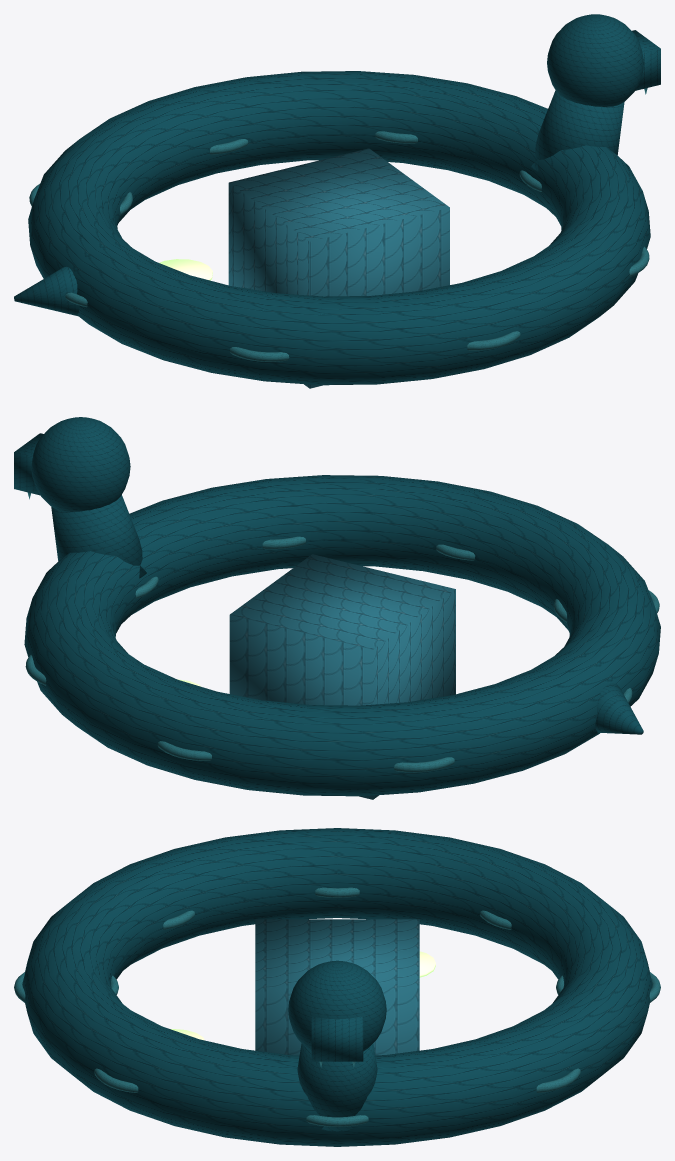
Rendered from jormungandr.glb.
The picture shows the model from 3 angles, top to bottom: view 1: azimuth 30°, elevation 25°; view 2: azimuth 150°, elevation 25°; view 3: azimuth 270°, elevation 25°; orthographic projection. The views are drawn at different scales.
Visible parts, largest first — view 1: RingBody, Cube, Head, Neck, Tail, Snout, VenomPool1, Band5; view 2: RingBody, Cube, Head, Neck, Tail, Snout, Band3, Band2; view 3: RingBody, Cube, Head, Neck, Snout, Band0, Band1, Band7.
Boxes of the visible parts, x1,y1,x2,y2 form: RingBody: [28, 71, 650, 385]; Cube: [228, 148, 449, 388]; Head: [547, 14, 643, 106]; Neck: [531, 90, 624, 171]; Tail: [14, 266, 79, 316]; Snout: [632, 30, 660, 90]; VenomPool1: [159, 259, 212, 280]; Band5: [230, 347, 289, 361]; RingBody: [24, 475, 660, 796]; Cube: [229, 554, 455, 799]; Head: [31, 417, 130, 511]; Neck: [51, 495, 146, 578]; Tail: [595, 683, 643, 734]; Snout: [14, 433, 43, 495]; Band3: [394, 757, 454, 772]; Band2: [157, 741, 211, 760]; RingBody: [22, 828, 652, 1146]; Cube: [255, 919, 419, 1055]; Head: [288, 960, 386, 1051]; Neck: [297, 1043, 377, 1131]; Snout: [311, 1016, 363, 1061]; Band0: [306, 1115, 368, 1126]; Band1: [536, 1068, 580, 1092]; Band7: [94, 1068, 138, 1092].
Bounding box in the file's own units: 7.82 × 3.15 × 7.
Materials: 5 (3 with a texture image).
